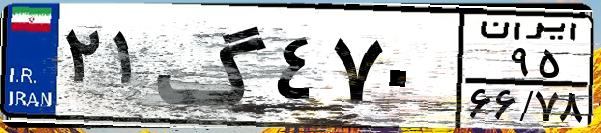0: (385, 28, 445, 110)
1: (110, 28, 156, 98)
2: (57, 26, 110, 100)
4: (270, 28, 330, 110)
5: (537, 27, 568, 80)
6: (470, 70, 495, 125), (495, 70, 520, 125)
7: (330, 28, 385, 110), (535, 70, 560, 125)
8: (560, 70, 590, 125)
9: (508, 27, 537, 80)
گ: (156, 12, 270, 120)
